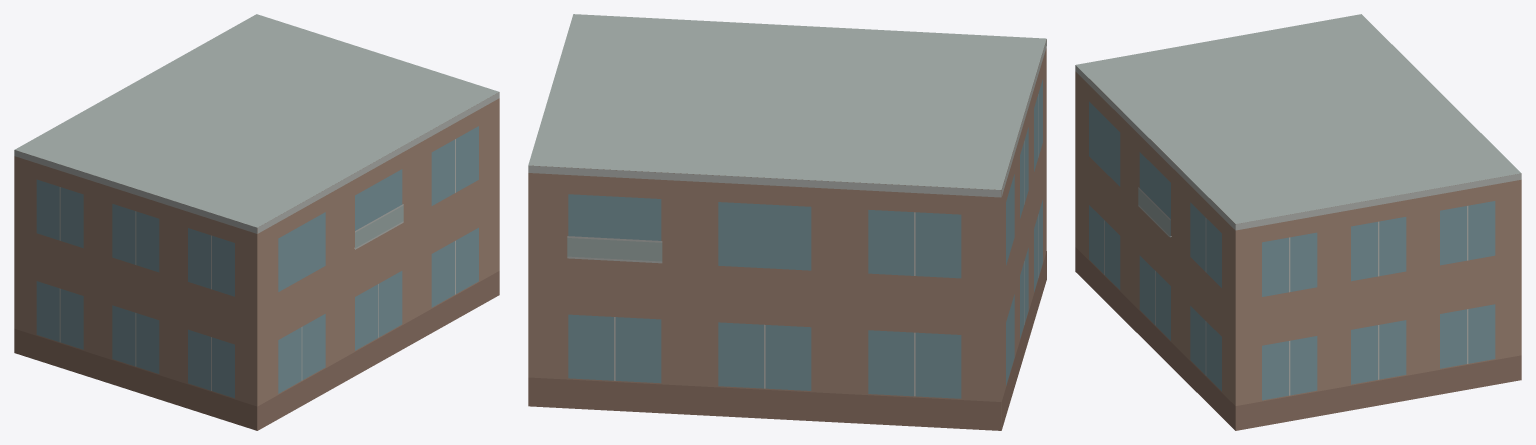
The model's file is survey-upis-32839801.glb.
3 views of the same model, side by side, from view 1: azimuth 30°, elevation 25°; view 2: azimuth 150°, elevation 25°; view 3: azimuth 270°, elevation 25° (orthographic). The views are drawn at different scales.
Parts seen in each view (by area): view 1: survey-upis-32839801.tmp; view 2: survey-upis-32839801.tmp; view 3: survey-upis-32839801.tmp.
Boxes of the visible parts, bbox=[...] form: survey-upis-32839801.tmp: bbox=[14, 14, 499, 430]; survey-upis-32839801.tmp: bbox=[528, 14, 1046, 430]; survey-upis-32839801.tmp: bbox=[1075, 14, 1521, 430].
Size of the model in its own units: 17.23 by 7.9 by 15.46.
